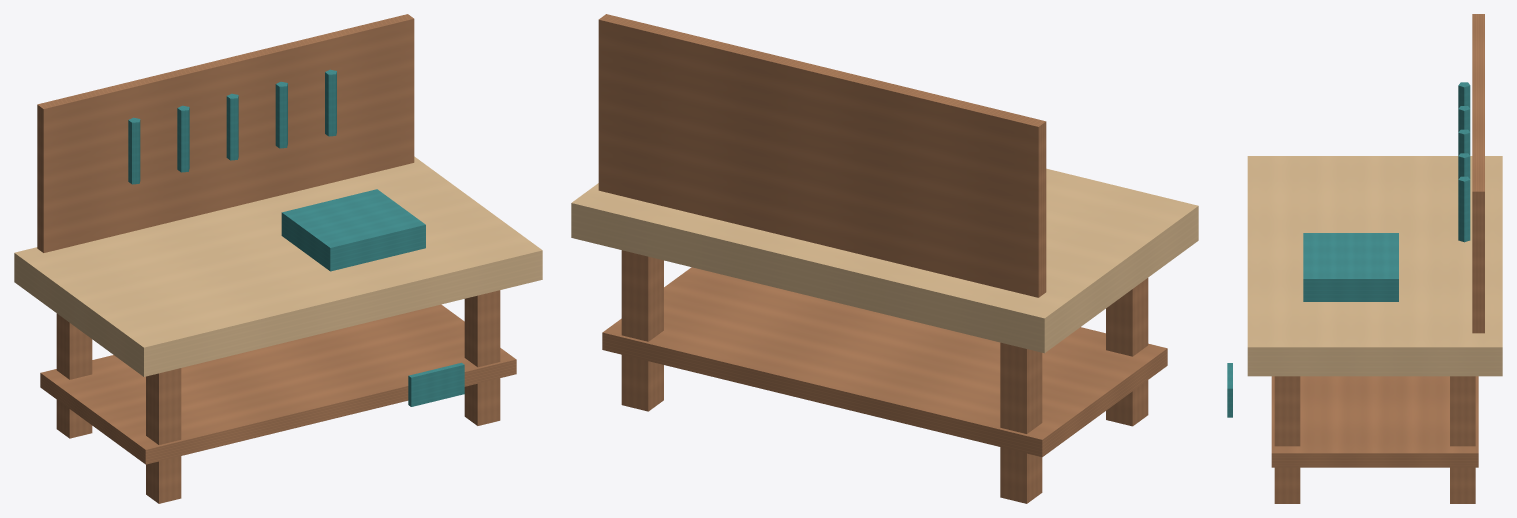
The model's file is atlas100-s092-a06.lod1.glb.
The picture shows the model from 3 angles, left to right: view 1: azimuth 30°, elevation 25°; view 2: azimuth 150°, elevation 25°; view 3: azimuth 270°, elevation 25°; orthographic projection. The views are drawn at different scales.
Visible parts, largest first — view 1: atlas100-s092-a06:part-004, atlas100-s092-a06:part-006, atlas100-s092-a06:part-005, atlas100-s092-a06:part-012, atlas100-s092-a06:part-003, atlas100-s092-a06:part-001, atlas100-s092-a06:part-000, atlas100-s092-a06:part-013, atlas100-s092-a06:part-008, atlas100-s092-a06:part-009, atlas100-s092-a06:part-010, atlas100-s092-a06:part-007 (+1 smaller); view 2: atlas100-s092-a06:part-006, atlas100-s092-a06:part-005, atlas100-s092-a06:part-004, atlas100-s092-a06:part-002, atlas100-s092-a06:part-000, atlas100-s092-a06:part-001; view 3: atlas100-s092-a06:part-004, atlas100-s092-a06:part-005, atlas100-s092-a06:part-012, atlas100-s092-a06:part-006, atlas100-s092-a06:part-003, atlas100-s092-a06:part-002, atlas100-s092-a06:part-011, atlas100-s092-a06:part-013, atlas100-s092-a06:part-009.
Boxes of the visible parts, <box> form: atlas100-s092-a06:part-004: <box>14,156,542,376</box>; atlas100-s092-a06:part-006: <box>37,14,414,252</box>; atlas100-s092-a06:part-005: <box>40,304,516,464</box>; atlas100-s092-a06:part-012: <box>281,189,425,271</box>; atlas100-s092-a06:part-003: <box>464,290,500,425</box>; atlas100-s092-a06:part-001: <box>146,368,181,503</box>; atlas100-s092-a06:part-000: <box>56,313,92,438</box>; atlas100-s092-a06:part-013: <box>408,362,464,406</box>; atlas100-s092-a06:part-008: <box>177,105,189,172</box>; atlas100-s092-a06:part-009: <box>226,93,238,160</box>; atlas100-s092-a06:part-010: <box>275,81,287,148</box>; atlas100-s092-a06:part-007: <box>128,117,140,184</box>; atlas100-s092-a06:part-006: <box>598,14,1046,297</box>; atlas100-s092-a06:part-005: <box>602,267,1167,457</box>; atlas100-s092-a06:part-004: <box>571,168,1198,353</box>; atlas100-s092-a06:part-002: <box>621,250,663,411</box>; atlas100-s092-a06:part-000: <box>1000,342,1042,503</box>; atlas100-s092-a06:part-001: <box>1106,278,1148,426</box>; atlas100-s092-a06:part-004: <box>1247,156,1502,376</box>; atlas100-s092-a06:part-005: <box>1271,376,1478,467</box>; atlas100-s092-a06:part-012: <box>1303,233,1398,301</box>; atlas100-s092-a06:part-006: <box>1472,14,1484,333</box>; atlas100-s092-a06:part-003: <box>1274,376,1300,503</box>; atlas100-s092-a06:part-002: <box>1450,376,1475,503</box>; atlas100-s092-a06:part-011: <box>1458,176,1470,242</box>; atlas100-s092-a06:part-013: <box>1227,363,1232,417</box>; atlas100-s092-a06:part-009: <box>1458,129,1470,155</box>.
Size of the model in its own units: 2.84 by 2.21 by 1.73.
3 materials, 3 textured.
